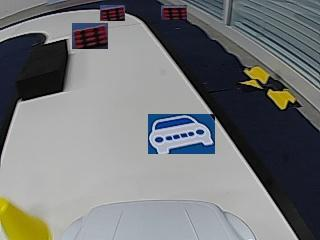block: (18, 40, 68, 100)
cone: (0, 196, 53, 239)
